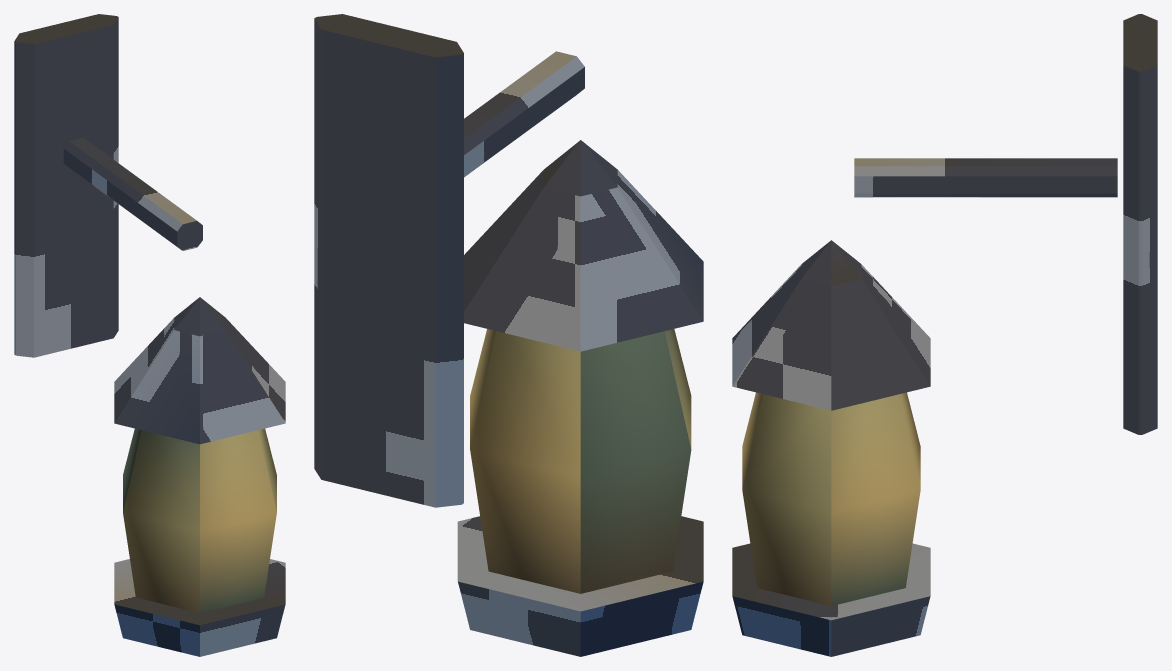
File: wprop.lantern__wall.glb
3 views of the same model, side by side, from view 1: azimuth 30°, elevation 25°; view 2: azimuth 150°, elevation 25°; view 3: azimuth 270°, elevation 25° (orthographic). The views are drawn at different scales.
Visible parts, largest first — view 1: kit_plate, kit_glass, kit_cap, kit_base, kit_bracket; view 2: kit_plate, kit_glass, kit_cap, kit_base, kit_bracket; view 3: kit_glass, kit_cap, kit_plate, kit_base, kit_bracket.
Part boxes in pixels (x1,y1,x2,y2): kit_plate: [14, 14, 118, 357]; kit_glass: [123, 428, 276, 612]; kit_cap: [114, 297, 285, 444]; kit_base: [114, 559, 285, 656]; kit_bracket: [63, 137, 202, 250]; kit_plate: [314, 14, 463, 507]; kit_glass: [470, 329, 691, 593]; kit_cap: [464, 140, 703, 351]; kit_base: [457, 516, 703, 656]; kit_bracket: [464, 51, 584, 177]; kit_glass: [742, 392, 920, 605]; kit_cap: [732, 240, 930, 410]; kit_plate: [1123, 14, 1157, 434]; kit_base: [732, 543, 930, 656]; kit_bracket: [854, 158, 1117, 197].
Bounding box in the file's own units: 0.2 × 0.55 × 0.3716.
Materials: 3 (2 with a texture image).
